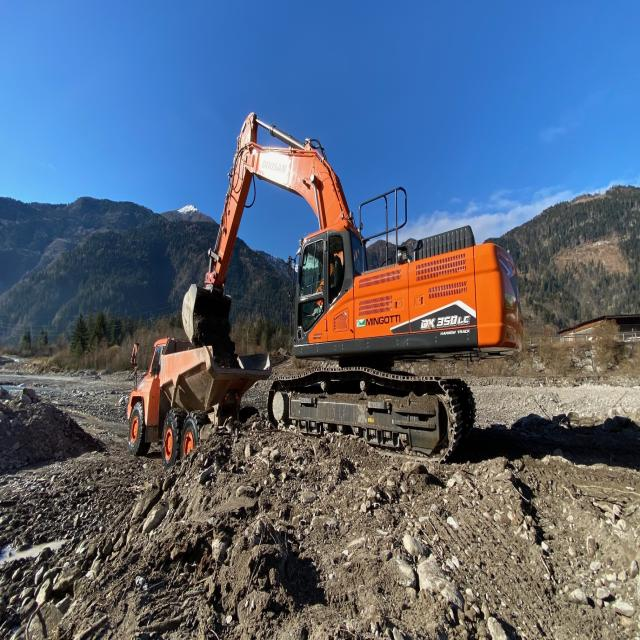dump_truck: (116, 323, 264, 492)
excavator: (168, 80, 526, 488)
